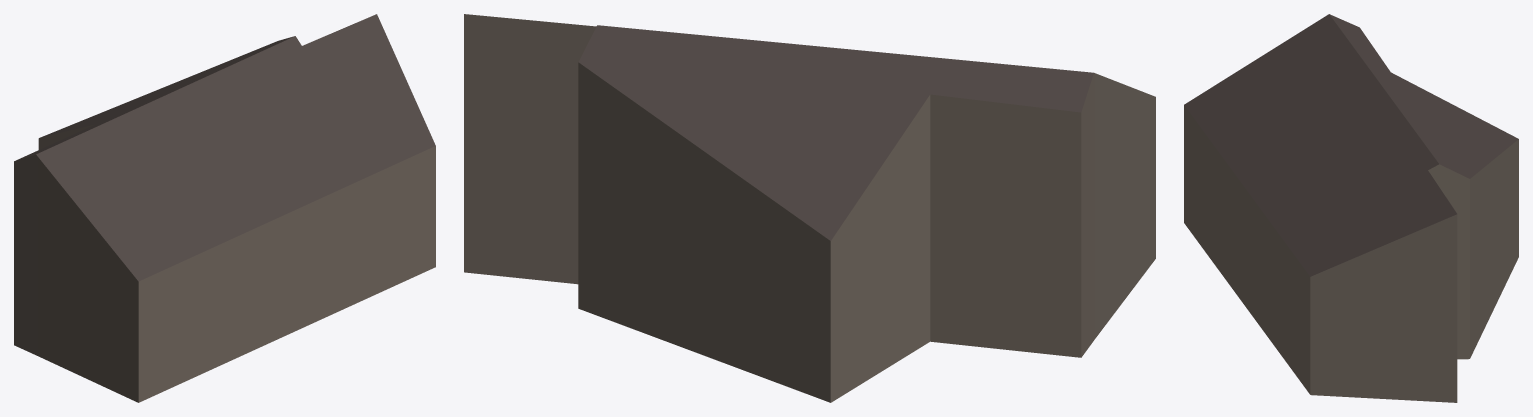
The picture shows the model from 3 angles, left to right: view 1: azimuth 30°, elevation 25°; view 2: azimuth 150°, elevation 25°; view 3: azimuth 270°, elevation 25°; orthographic projection. The views are drawn at different scales.
Parts seen in each view (by area): view 1: HP-w1198867490; view 2: HP-w1198867490; view 3: HP-w1198867490.
Part boxes in pixels (x1,y1,x2,y2): HP-w1198867490: (14, 14, 435, 402); HP-w1198867490: (464, 14, 1155, 402); HP-w1198867490: (1184, 14, 1518, 402).
Size of the model in its own units: 21.36 by 9.93 by 15.4.
